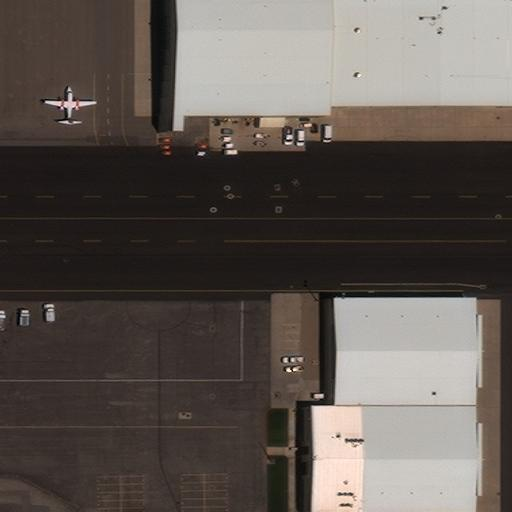Small Civil Transport: (44, 86, 95, 125)
